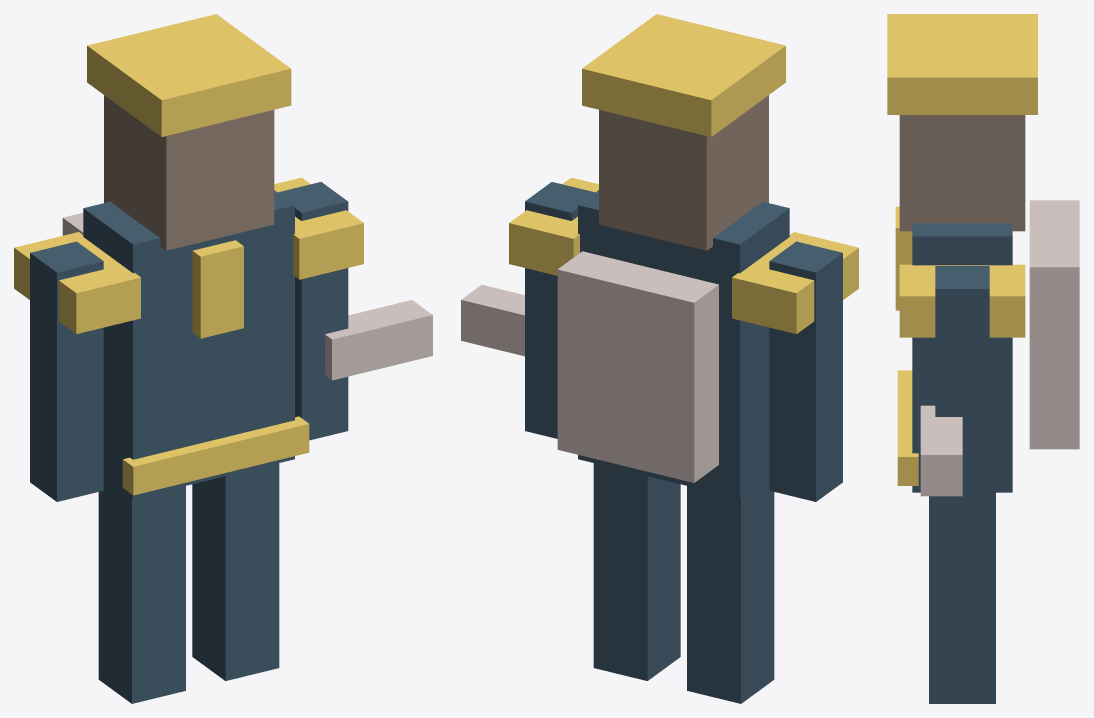
Rendered from 02_makoa_deepwell_guide_at_observation.glb.
The picture shows the model from 3 angles, left to right: view 1: azimuth 30°, elevation 25°; view 2: azimuth 150°, elevation 25°; view 3: azimuth 270°, elevation 25°; orthographic projection.
Visible parts, largest first — view 1: Makoa Deepwell, Guide at Observation; view 2: Makoa Deepwell, Guide at Observation; view 3: Makoa Deepwell, Guide at Observation.
Part boxes in pixels (box(x1,y1,x2,y2)): Makoa Deepwell, Guide at Observation: box(14, 14, 432, 703); Makoa Deepwell, Guide at Observation: box(461, 14, 858, 703); Makoa Deepwell, Guide at Observation: box(887, 14, 1079, 703).
Size of the model in its own units: 1.04 by 1.66 by 0.4665.
